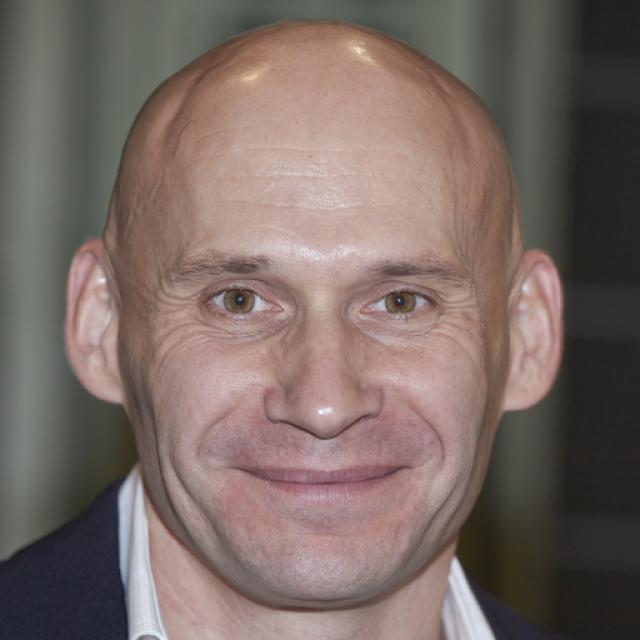Wrinkle: (217, 196, 383, 213), (413, 404, 448, 481), (192, 409, 229, 469), (236, 168, 365, 183), (241, 141, 354, 158), (429, 328, 476, 368)
